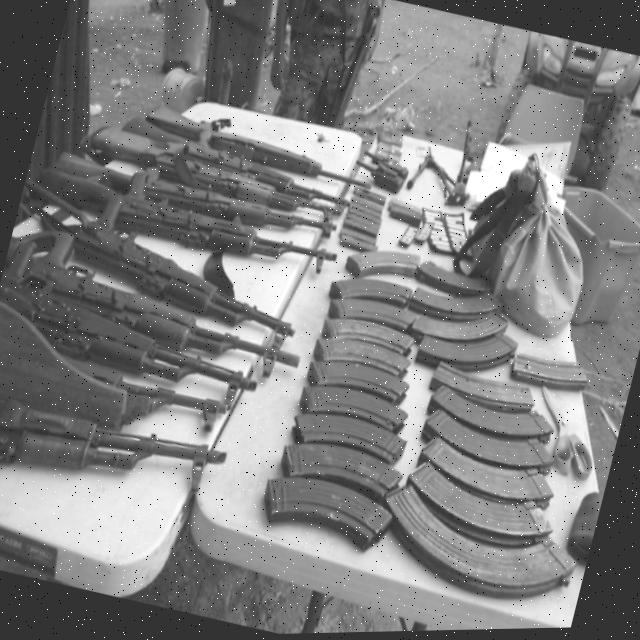firearm: (0, 212, 319, 379), (0, 274, 267, 412), (34, 165, 340, 282), (0, 385, 228, 519), (86, 111, 354, 219), (0, 333, 229, 447), (138, 99, 379, 193)
